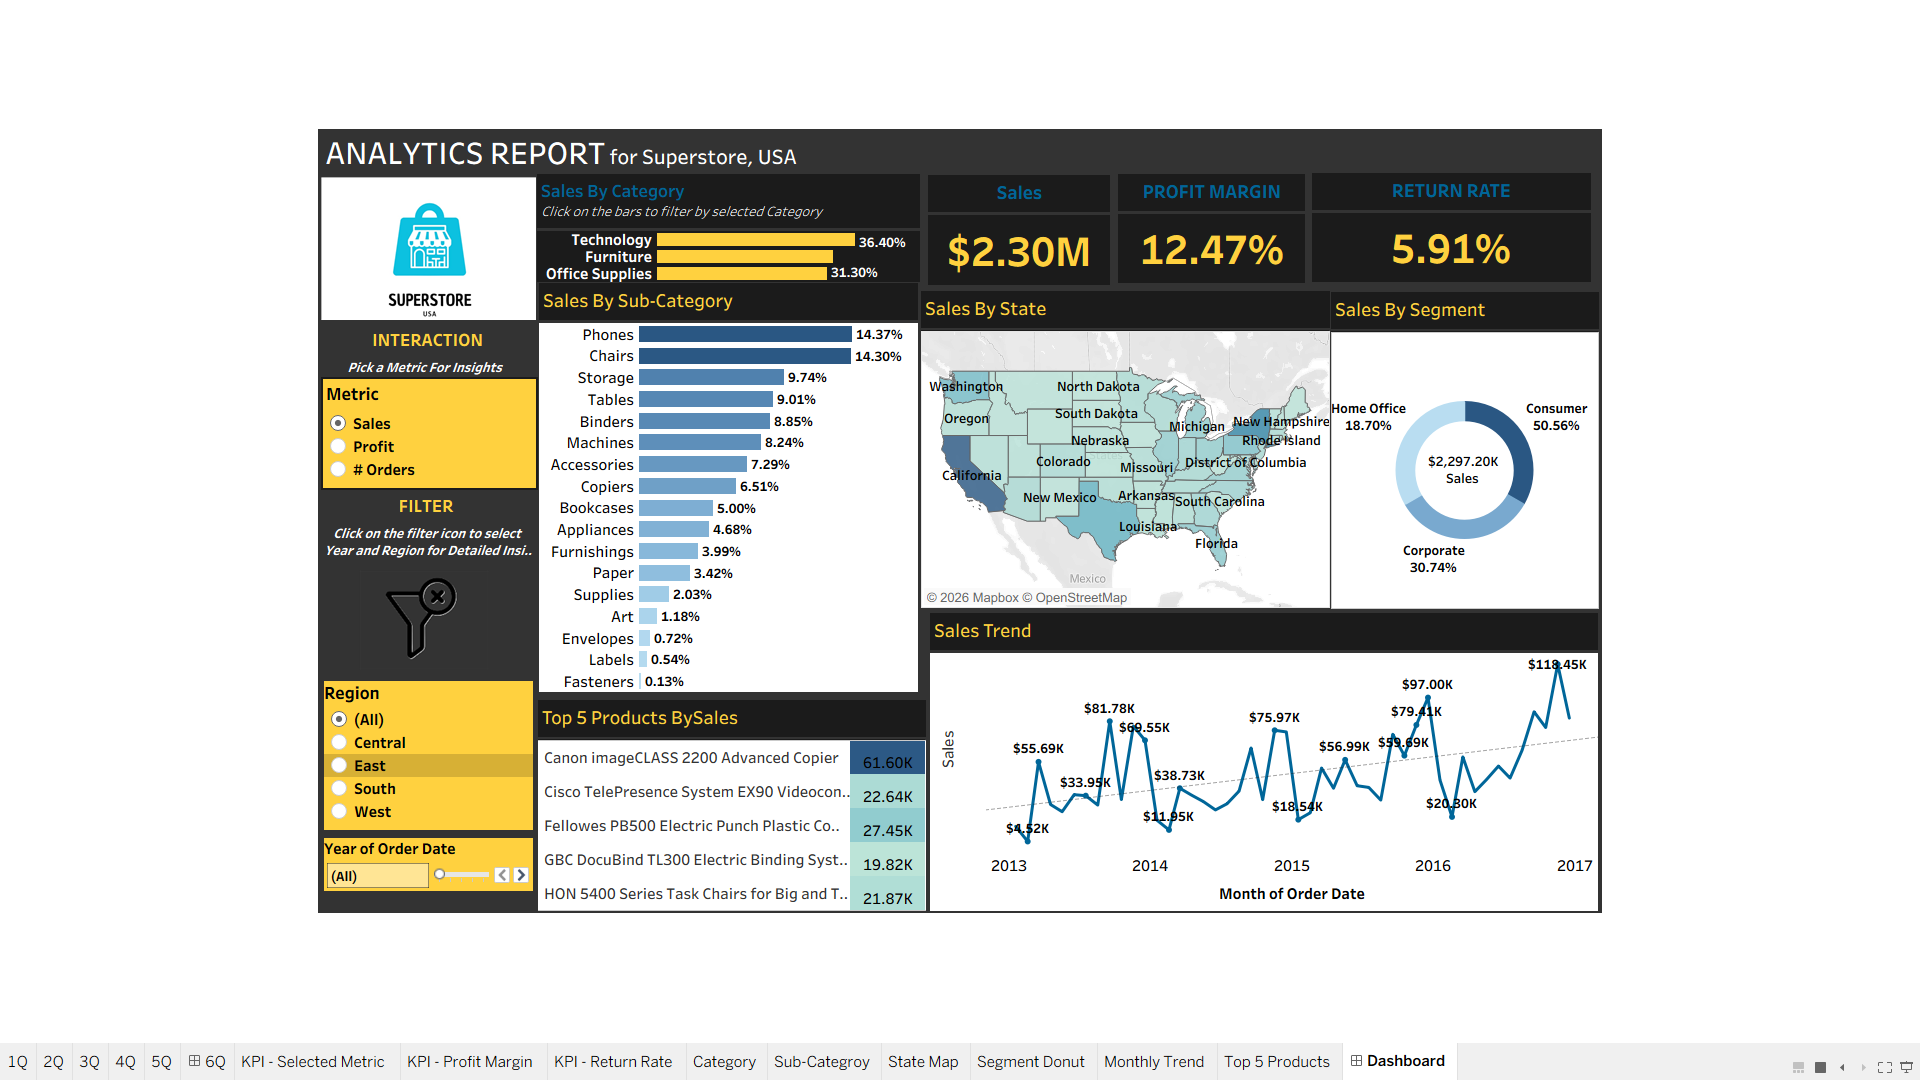

The page's visual inventory and layout, read from the dashboard file:
{"tool":"tableau","page":{"name":"Dashboard ","canvas":[1300,800],"ordinal":0},"visuals":[{"type":"text","box":[12,9,1278,44]},{"type":"worksheet","title":"KPI - Return Rate","mark":"Automatic","box":[1001.9,52,278.6,109]},{"type":"image","param":"Image/Logo.png","box":[11,53,215,149]},{"type":"worksheet","title":"Category","mark":"Automatic","rows":["Category"],"cols":["Calculation_0992634451906569"],"box":[227.5,53,382.6,108]},{"type":"worksheet","title":"KPI - Profit Margin","mark":"Automatic","box":[807.9,53,187.6,109]},{"type":"worksheet","title":"KPI - Selected Metric","mark":"Automatic","box":[617.5,54,182.9,110]},{"type":"worksheet","title":"Sub-Categroy","mark":"Automatic","rows":["Sub-Category"],"cols":["Calculation_0992634451906569"],"box":[229,162,379,409]},{"type":"worksheet","title":"State Map","mark":"Multipolygon","box":[611,170,409,317]},{"type":"worksheet","title":"Segment Donut","mark":"Pie","cols":["Calculation_1207314823442434","Calculation_1207314823442434"],"box":[1021,171,268,317]},{"type":"text","box":[11,202,213,32]},{"type":"text","box":[9,234,213,23]},{"type":"parameter","param":"[Parameters].[Parameter 0992634446176263]","box":[11,256,217,113]},{"type":"text","box":[10,370,212,28]},{"type":"text","box":[8,396,220,49]},{"type":"dashboard-object","box":[49,444,130,111]},{"type":"worksheet","title":"Monthly Trend","mark":"Line","rows":["Calculation_0992634451906569"],"cols":["Order Date"],"box":[620,492,668,298]},{"type":"filter","title":"Sub-Categroy","param":"[federated.07n81ux1xfnduu16hykkq0kemoa3].[none:Region:nk]","box":[10,556,217,157]},{"type":"worksheet","title":"Top 5 Products","mark":"Square","rows":["Product Name"],"box":[228,579,388,211]},{"type":"filter","title":"Sub-Categroy","param":"[federated.07n81ux1xfnduu16hykkq0kemoa3].[yr:Order Date:ok]","box":[10,713,217,61]}]}

Visuals, with their boxes on the page's 1300x800 design canvas (x1, y1, x2, y2). These are canvas units, not pixel positions in the 1920x1080 screenshot, which may show the page scaled, cropped or inside an application window:
text: [12, 9, 1290, 53]
"KPI - Return Rate" worksheet: [1002, 52, 1280, 161]
image: [11, 53, 226, 202]
"Category" worksheet: [228, 53, 610, 161]
"KPI - Profit Margin" worksheet: [808, 53, 996, 162]
"KPI - Selected Metric" worksheet: [618, 54, 800, 164]
"Sub-Categroy" worksheet: [229, 162, 608, 571]
"State Map" worksheet (Multipolygon marks): [611, 170, 1020, 487]
"Segment Donut" worksheet (Pie marks): [1021, 171, 1289, 488]
text: [11, 202, 224, 234]
text: [9, 234, 222, 257]
parameter: [11, 256, 228, 369]
text: [10, 370, 222, 398]
text: [8, 396, 228, 445]
dashboard-object: [49, 444, 179, 555]
"Monthly Trend" worksheet (Line marks): [620, 492, 1288, 790]
"Sub-Categroy" filter: [10, 556, 227, 713]
"Top 5 Products" worksheet (Square marks): [228, 579, 616, 790]
"Sub-Categroy" filter: [10, 713, 227, 774]
